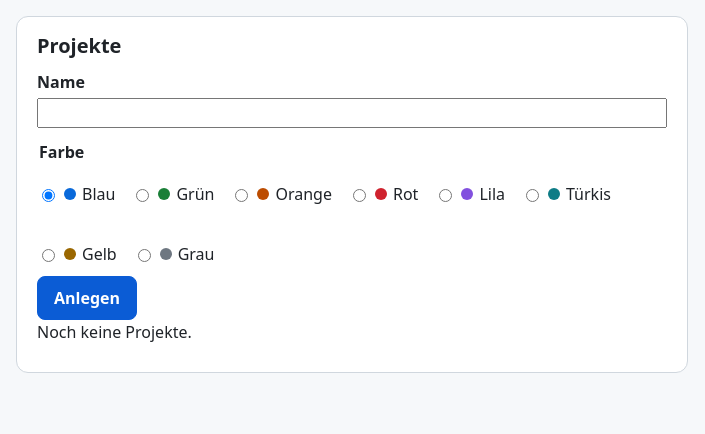
Test: ProjectsView: create (edge cases 1–4, 7) › rejects  with a message and writes nothing (edge cases 2, 3)
Clear the field labelled "Name" at [352, 113], box [37,98,667,128]
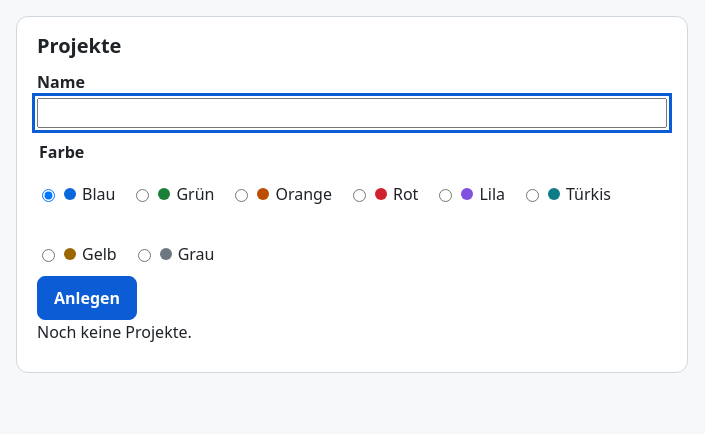
Click the button "Anlegen" at [87, 298], box [37,276,137,320]
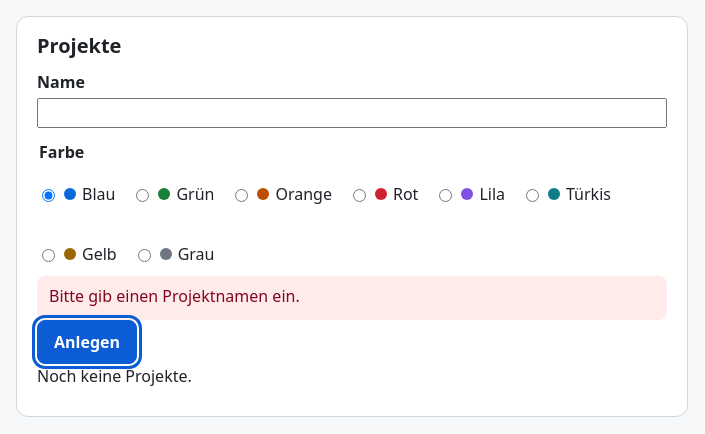
Now the message reads "Bitte gib einen Projektnamen ein.", box [49,285,300,307]
